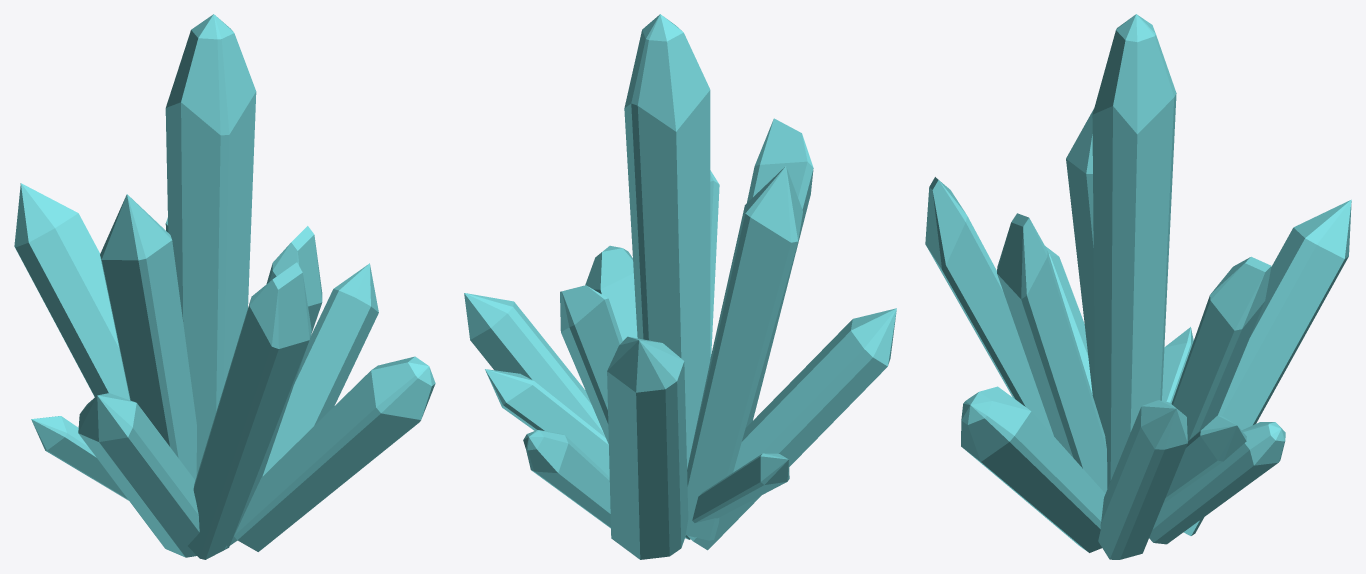
Rendered from crystals_2.fbx.
The picture shows the model from 3 angles, left to right: view 1: azimuth 30°, elevation 25°; view 2: azimuth 150°, elevation 25°; view 3: azimuth 270°, elevation 25°; orthographic projection.
Visible parts, largest first — view 1: polySurface2; view 2: polySurface2; view 3: polySurface2.
Part boxes in pixels (bbox=[...]): polySurface2: bbox=[14, 14, 435, 559]; polySurface2: bbox=[464, 14, 896, 559]; polySurface2: bbox=[925, 14, 1351, 559].
Size of the model in its own units: 11.66 by 16.41 by 11.99.
